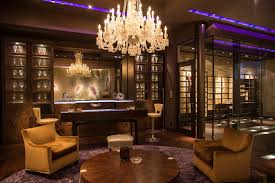Chair: (185, 122, 260, 181), (17, 123, 83, 176), (146, 102, 168, 141), (28, 104, 59, 124)
Lamp: (90, 0, 177, 55)
Table: (76, 144, 185, 183), (60, 105, 147, 147)
